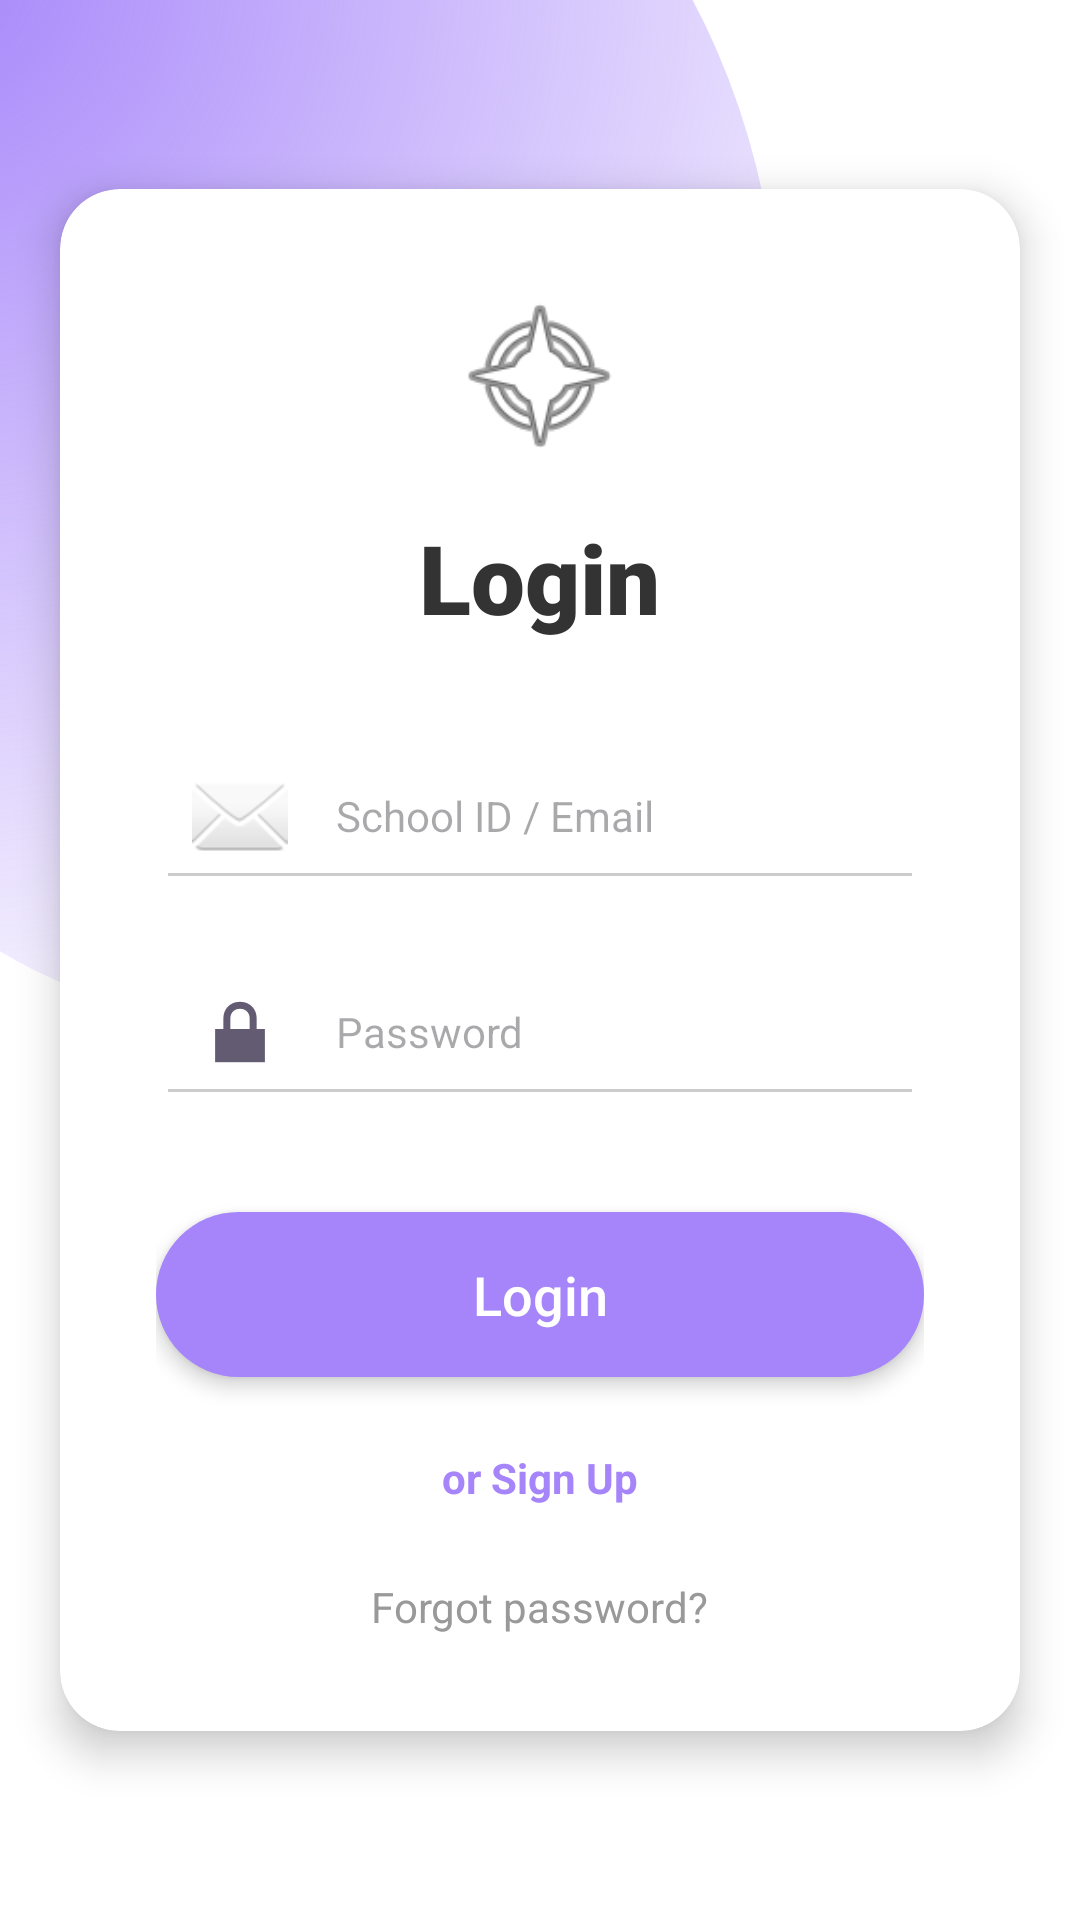

Where icons sit on this 1080px x 1920px app screen, as (x1, y1, x2, y2):
compass: (468, 305, 611, 447)
